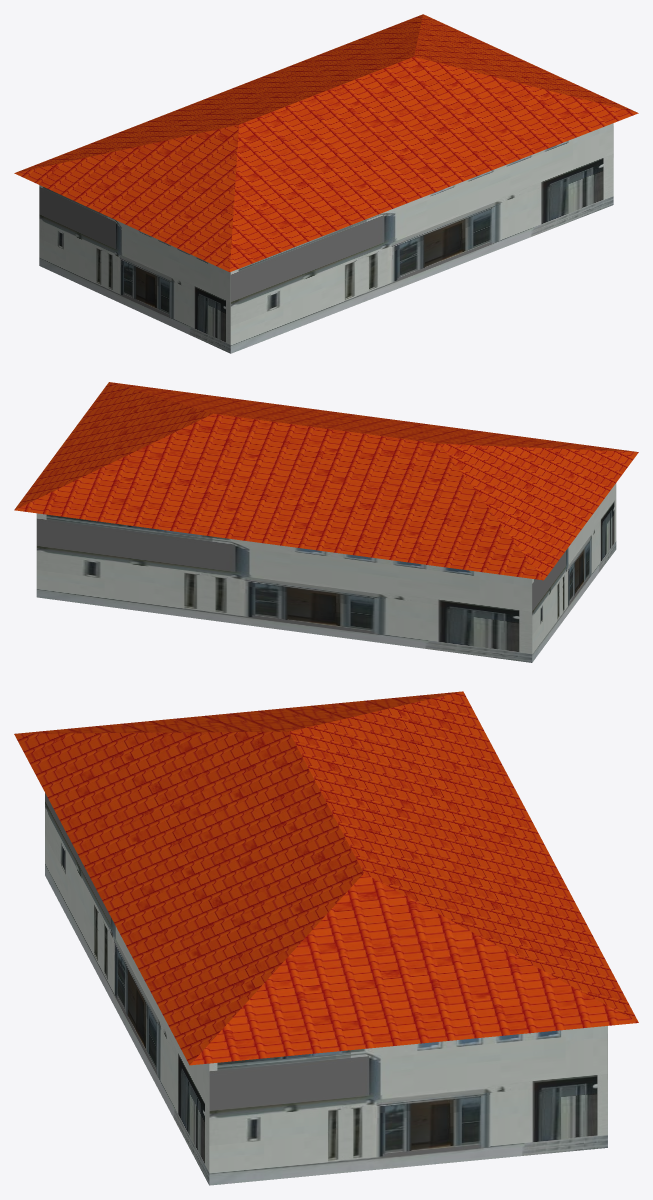
3 renders of one model, top to bottom at view 1: azimuth 30°, elevation 25°; view 2: azimuth 150°, elevation 25°; view 3: azimuth 270°, elevation 25°, orthographic. The views are drawn at different scales.
Parts seen in each view (by area): view 1: CityEngineMaterial_12_m, CityEngineMaterial_11_m; view 2: CityEngineMaterial_12_m, CityEngineMaterial_11_m; view 3: CityEngineMaterial_12_m, CityEngineMaterial_11_m.
Boxes of the visible parts, x1,y1,x2,y2 form: CityEngineMaterial_12_m: (14, 14, 638, 272); CityEngineMaterial_11_m: (39, 123, 613, 353); CityEngineMaterial_12_m: (14, 382, 638, 580); CityEngineMaterial_11_m: (36, 483, 616, 662); CityEngineMaterial_12_m: (14, 691, 638, 1065); CityEngineMaterial_11_m: (45, 793, 607, 1185).
Bounding box in the file's own units: 31.98 × 8.34 × 22.58.
